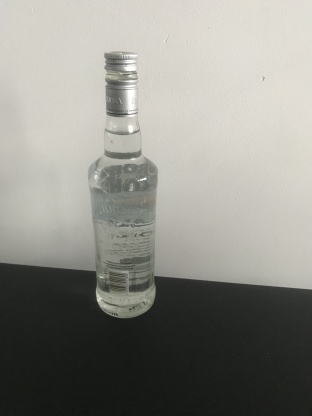nakretka: (102, 50, 139, 117)
